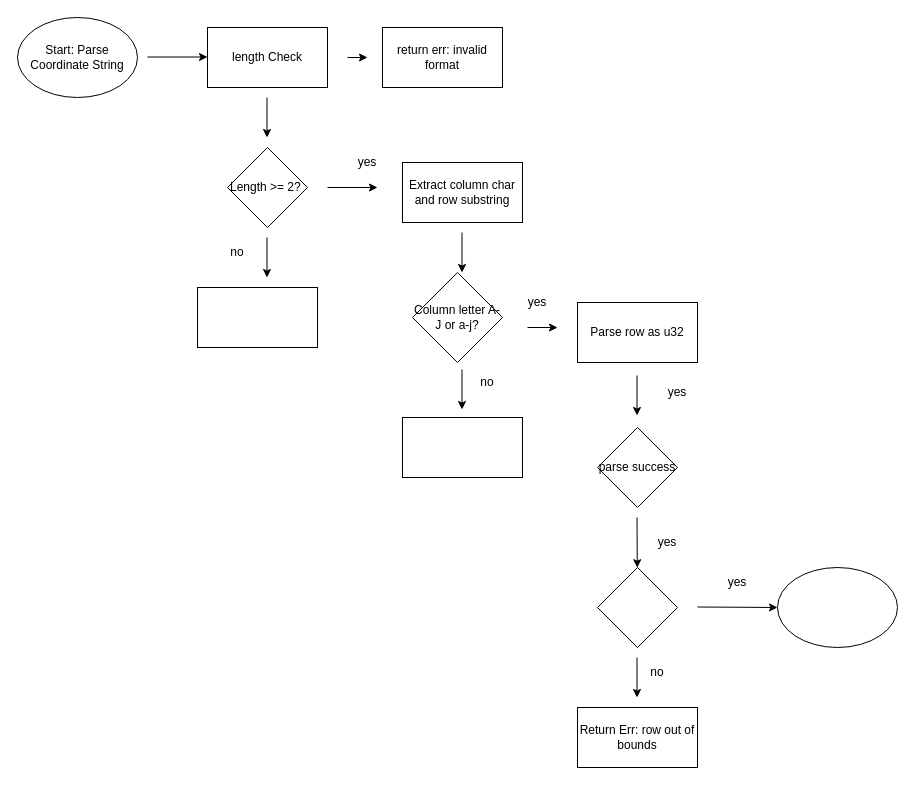
This 915x785 diagram has some shape labels left out. The centre of each missing label's shape, as x and y in pixels:
"end" goes at point 837,607.
"Return Err: Invalid column" goes at point 462,447.
"Return Err: Invalid coordinate format" goes at point 257,317.
"row 1-10" goes at point 637,607.
